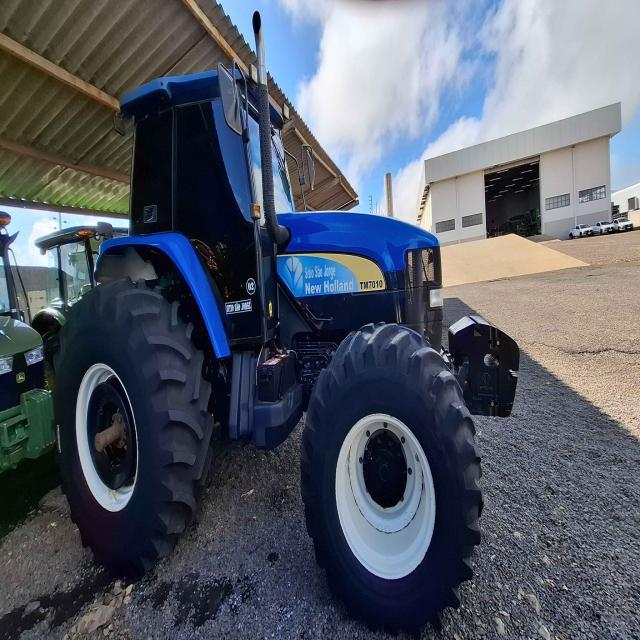Tratores - v5 YOLO V8L 2024-11-13: (56, 8, 518, 630)
